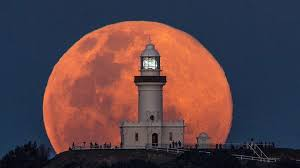moon: (42, 18, 234, 152)
